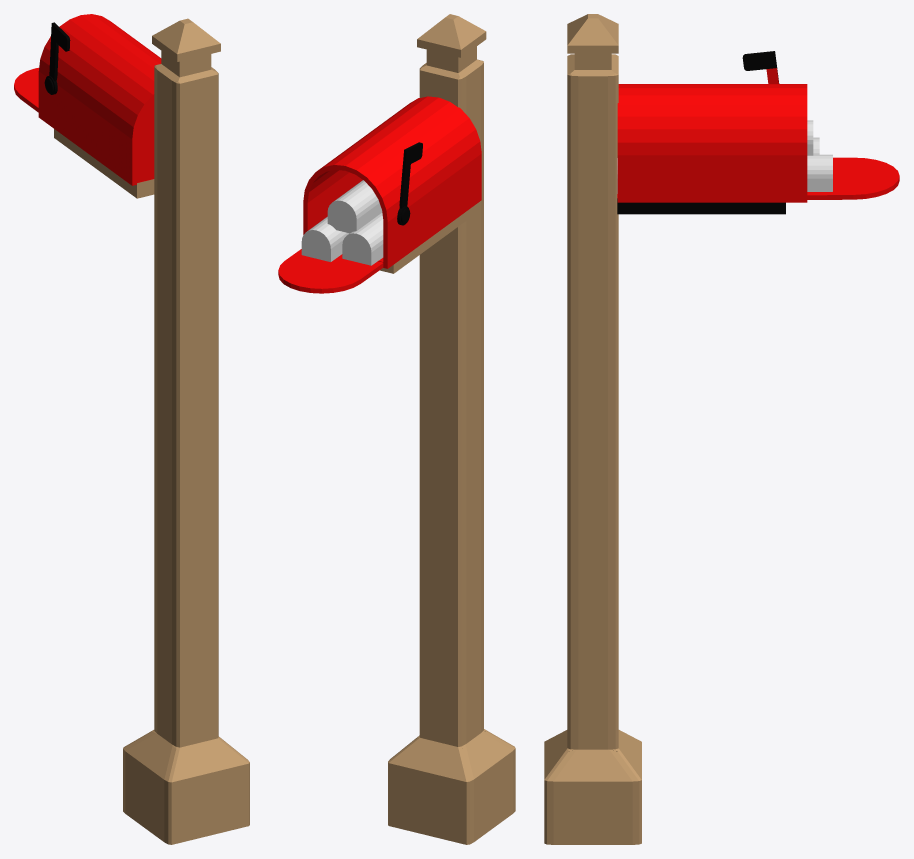
The model's file is LetterBox.fbx.
3 renders of one model, left to right at view 1: azimuth 30°, elevation 25°; view 2: azimuth 150°, elevation 25°; view 3: azimuth 270°, elevation 25°, orthographic.
Parts seen in each view (by area): view 1: Cube.002; view 2: Cube.002, Cube; view 3: Cube.002, Cube.
Boxes of the visible parts, x1,y1,x2,y2 form: Cube.002: [14, 14, 249, 844]; Cube.002: [278, 14, 515, 844]; Cube: [301, 180, 383, 265]; Cube.002: [544, 14, 899, 844]; Cube: [617, 120, 832, 193].
Bounding box in the file's own units: 54.84 × 471 × 188.
